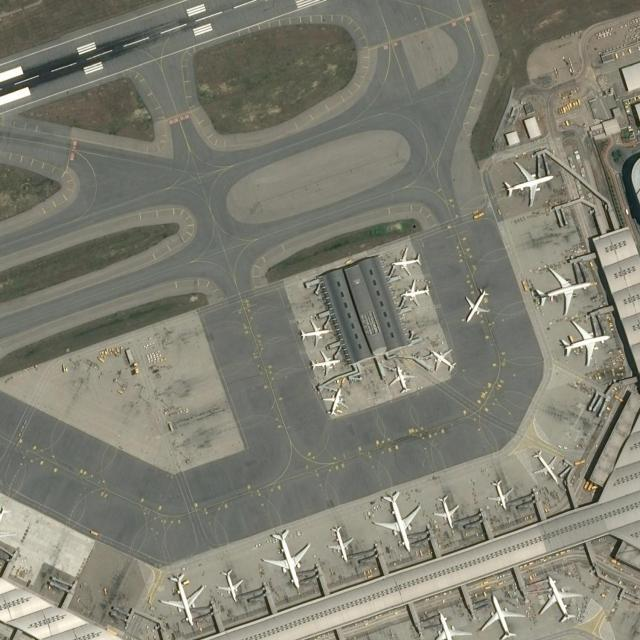Aircraft: (366, 485, 421, 551), (530, 261, 595, 315), (257, 528, 313, 590), (372, 490, 422, 552), (498, 156, 556, 208), (261, 528, 311, 588), (533, 266, 593, 314), (156, 571, 208, 626), (556, 316, 611, 367), (535, 569, 583, 623), (475, 590, 526, 640), (501, 161, 555, 207), (158, 571, 204, 625), (558, 320, 611, 366), (538, 574, 583, 624), (478, 592, 524, 640), (424, 608, 475, 640), (323, 521, 359, 563), (211, 565, 247, 607), (425, 609, 470, 640), (529, 446, 564, 485), (387, 242, 425, 276), (458, 285, 490, 324), (461, 285, 491, 323), (431, 493, 463, 528), (295, 315, 331, 345), (531, 448, 561, 484), (395, 276, 432, 305), (325, 524, 353, 562), (483, 476, 515, 509), (423, 344, 459, 373), (384, 361, 416, 393), (306, 348, 342, 376), (319, 383, 349, 416), (299, 317, 334, 345), (217, 567, 245, 601), (433, 494, 460, 529), (389, 247, 422, 275), (487, 477, 514, 509), (399, 279, 432, 305), (0, 499, 15, 556), (321, 386, 349, 416), (387, 364, 415, 394), (427, 345, 457, 373), (465, 287, 489, 322), (0, 499, 15, 554), (308, 351, 342, 375)
